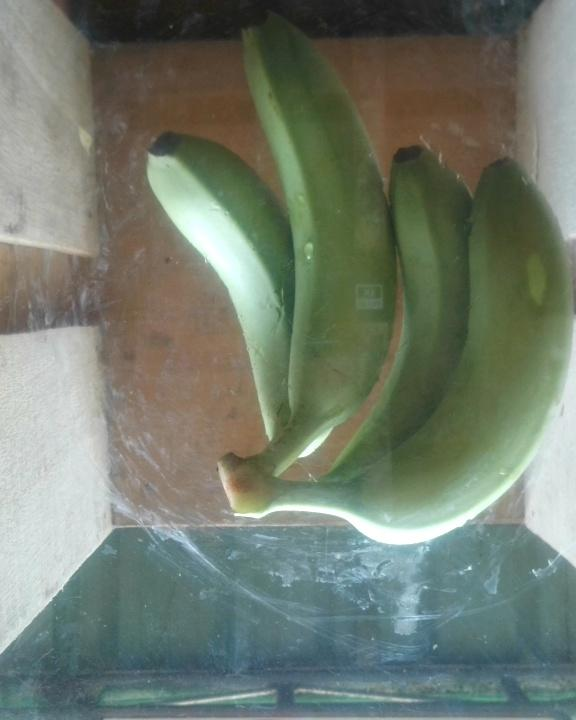SPOT: (117, 3, 576, 561)
